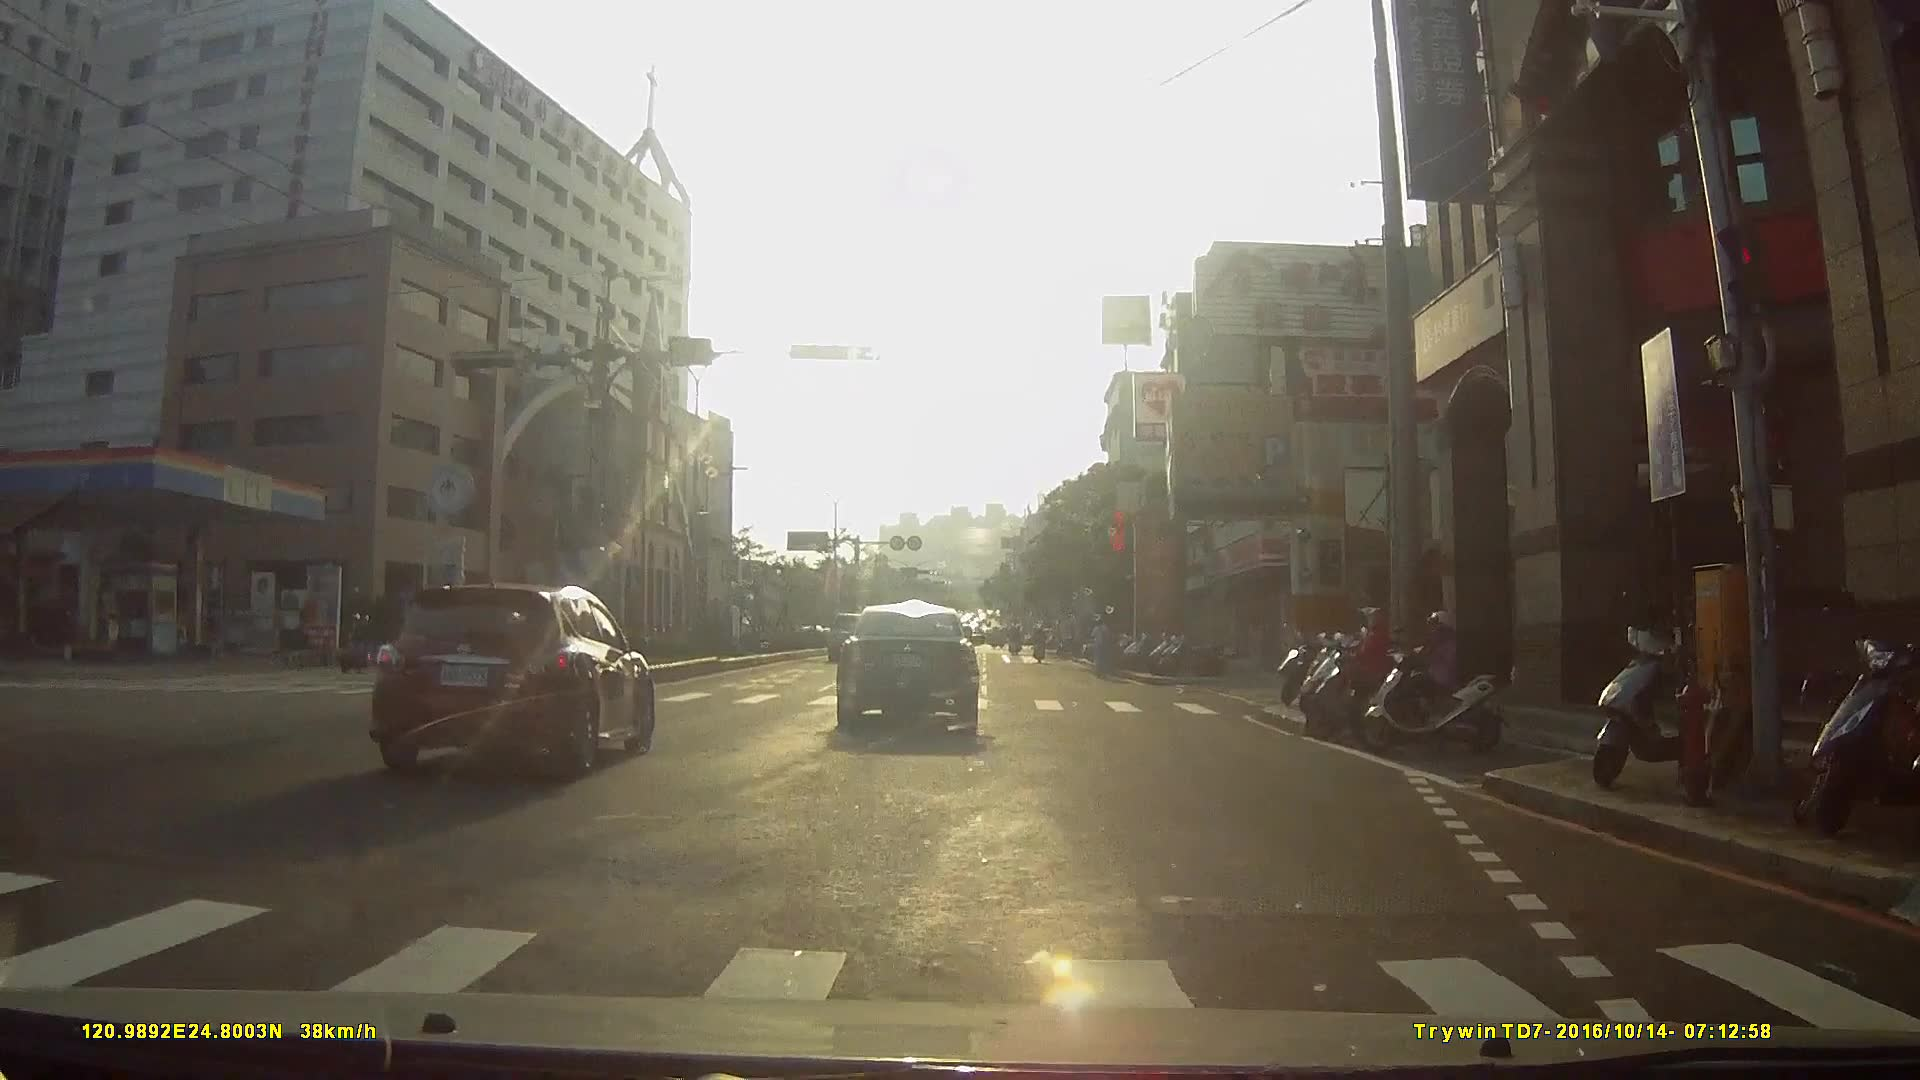rider: (1355, 602, 1512, 760), (1298, 604, 1419, 735), (337, 611, 378, 673), (1089, 616, 1116, 680)
vehicle: (369, 582, 665, 788), (840, 606, 1000, 745), (763, 607, 822, 662)
